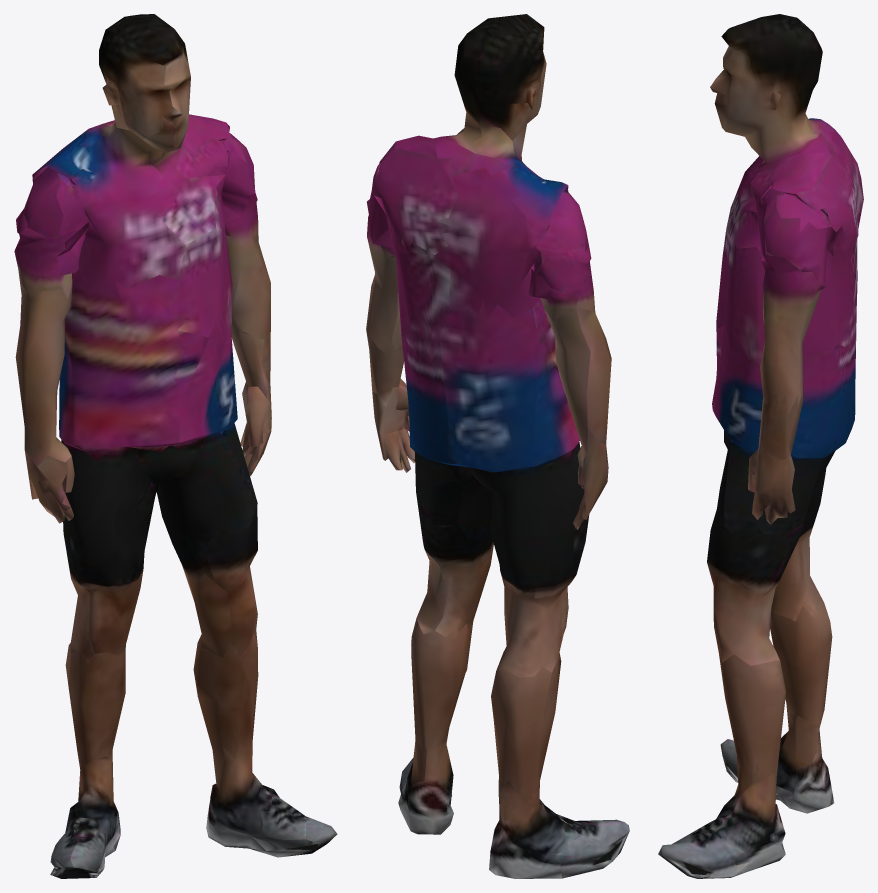
Rendered from 5_3_idle_lod2.glb.
3 renders of one model, left to right at view 1: azimuth 30°, elevation 25°; view 2: azimuth 150°, elevation 25°; view 3: azimuth 270°, elevation 25°, orthographic. The views are drawn at different scales.
Visible parts, largest first — view 1: Idle; view 2: Idle; view 3: Idle.
Boxes of the visible parts, box(x1,y1,x2,y2) form: Idle: box(14, 14, 337, 878); Idle: box(366, 14, 629, 878); Idle: box(658, 14, 863, 878).
Size of the model in its own units: 31.88 by 99.8 by 23.22.
1 material, 1 textured.
